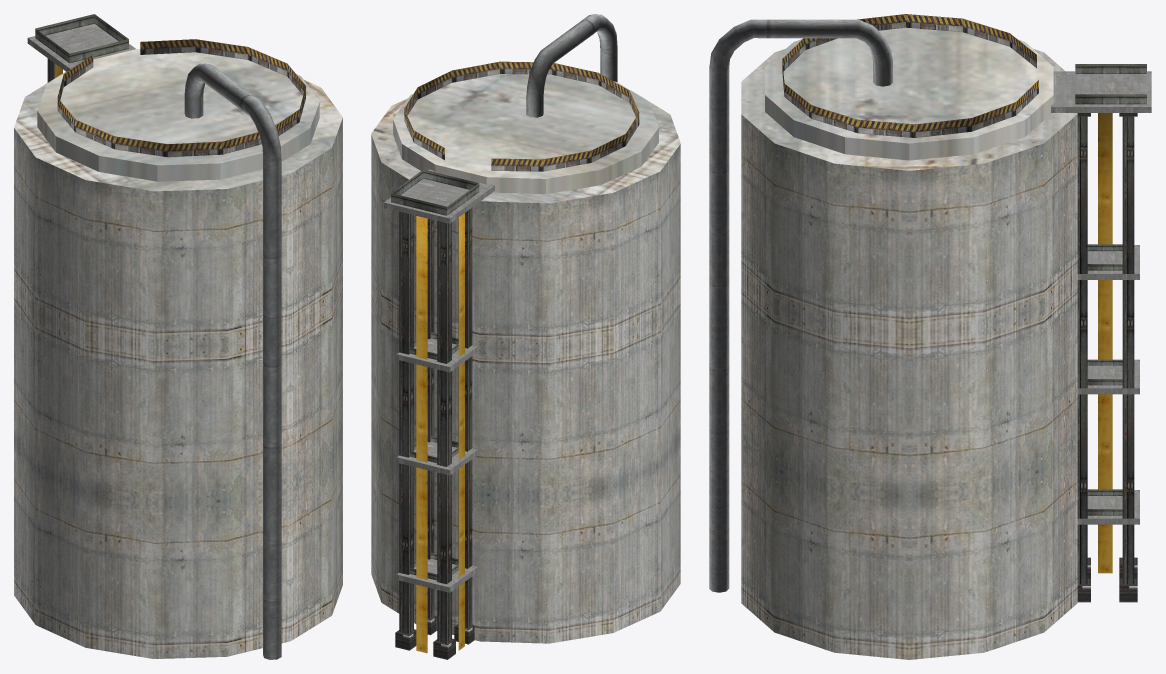
Rendered from Industrial L010.fbx.
The picture shows the model from 3 angles, left to right: view 1: azimuth 30°, elevation 25°; view 2: azimuth 150°, elevation 25°; view 3: azimuth 270°, elevation 25°; orthographic projection. The views are drawn at different scales.
Parts seen in each view (by area): view 1: Industrial L010; view 2: Industrial L010; view 3: Industrial L010.
Boxes of the visible parts, x1,y1,x2,y2 form: Industrial L010: (14,14,342,659); Industrial L010: (371,14,680,659); Industrial L010: (709,14,1151,659).
Size of the model in its own units: 8.78 by 15.96 by 11.26.
1 material, 1 textured.
